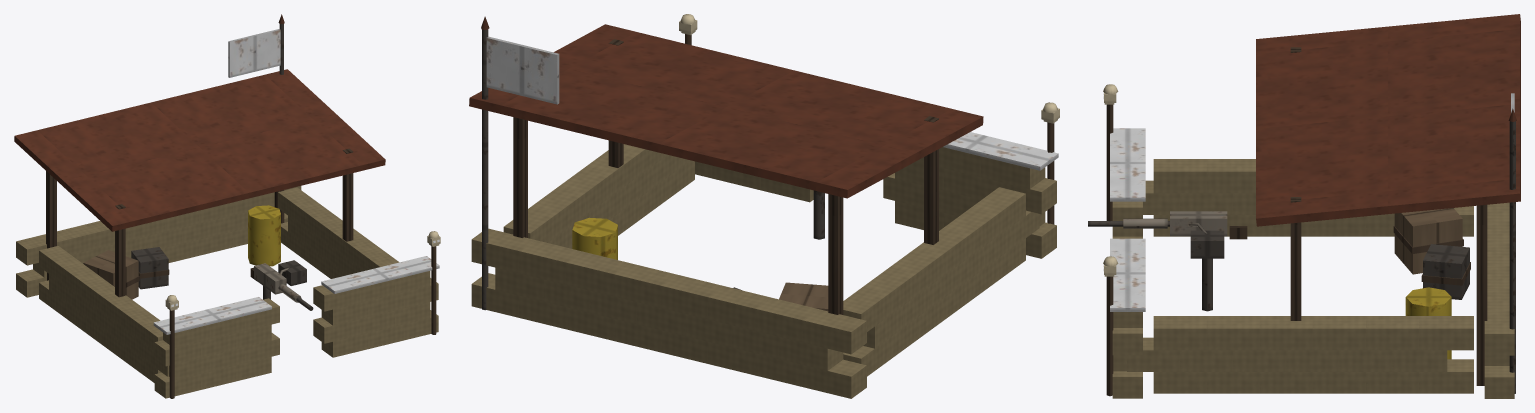
The picture shows the model from 3 angles, left to right: view 1: azimuth 30°, elevation 25°; view 2: azimuth 150°, elevation 25°; view 3: azimuth 270°, elevation 25°; orthographic projection. The views are drawn at different scales.
Parts seen in each view (by area): view 1: raider_building_mg_nest; view 2: raider_building_mg_nest; view 3: raider_building_mg_nest.
Part boxes in pixels (left/top/right/bottom): raider_building_mg_nest: left=14, top=14, right=440, bottom=398; raider_building_mg_nest: left=469, top=14, right=1059, bottom=398; raider_building_mg_nest: left=1088, top=14, right=1520, bottom=398.
Size of the model in its own units: 4.82 by 3.55 by 4.89.
11 materials, 11 textured.
